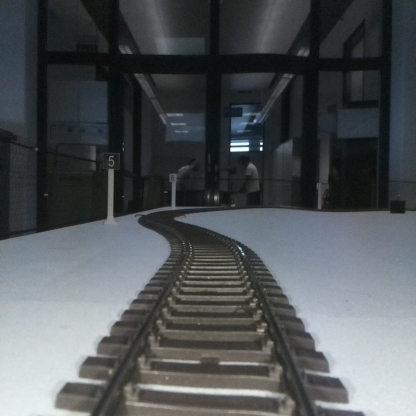black-info-5: (104, 152, 120, 223)
white-info-6: (169, 173, 176, 208)
